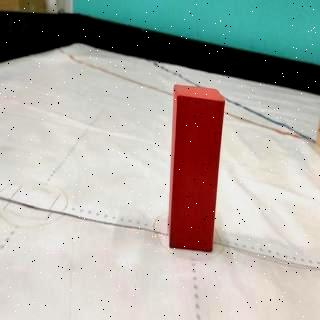redbox: (168, 84, 226, 252)
